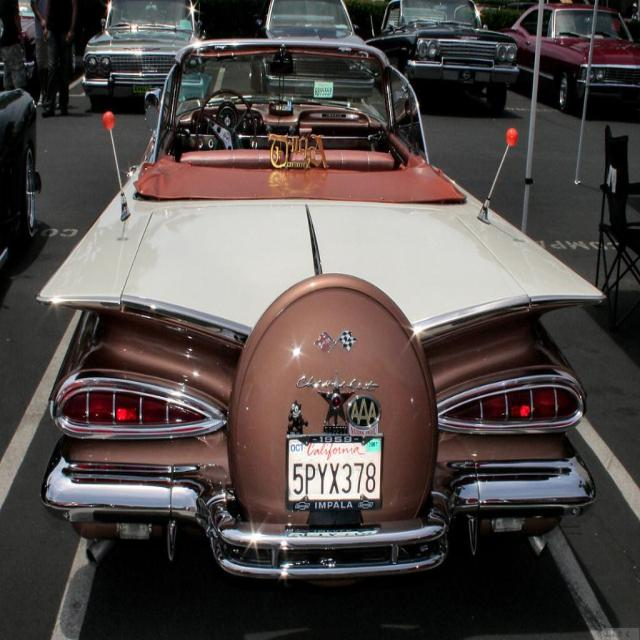car: (43, 36, 550, 603)
